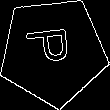P_E: (26, 30, 80, 72)
